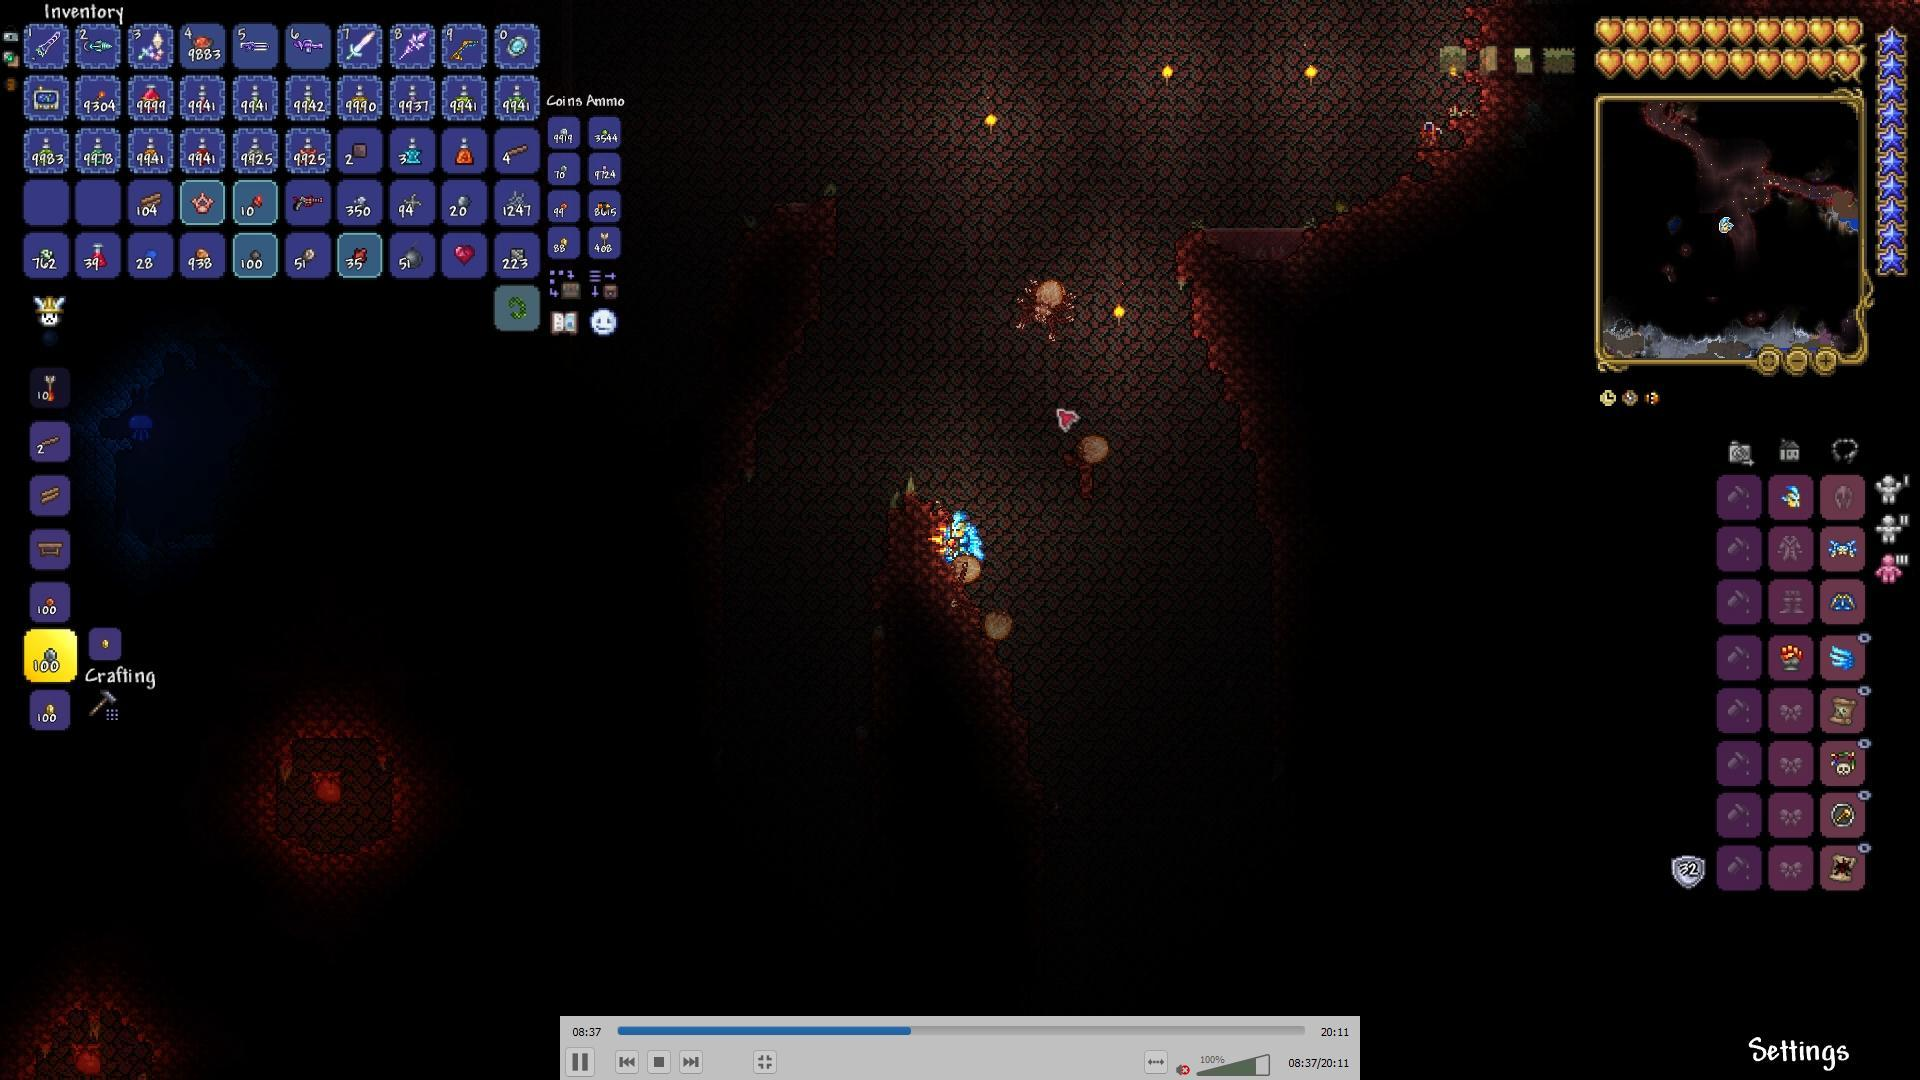gel: (140, 245, 164, 262)
lifeC: (452, 240, 477, 265)
mirror: (504, 32, 530, 61)
shuriken: (400, 190, 419, 214)
spider: (1009, 266, 1080, 340)
